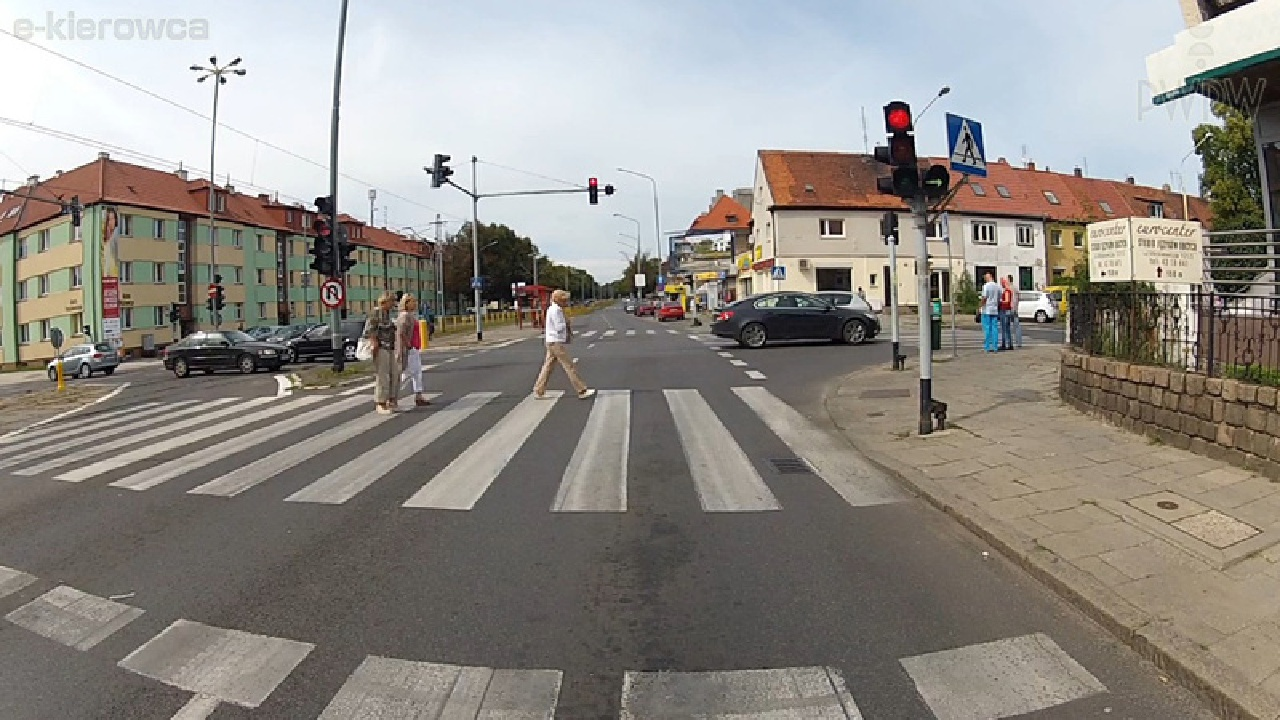B23: (321, 279, 345, 308)
D6: (946, 110, 988, 178)
Red: (884, 102, 920, 199)
